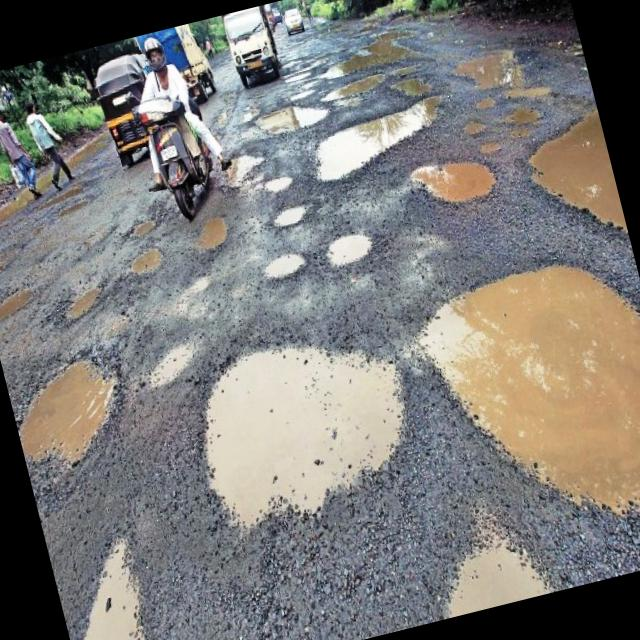Potholes: (413, 232, 640, 560), (168, 294, 430, 524), (1, 332, 152, 483), (302, 88, 460, 200), (46, 520, 188, 640), (524, 103, 626, 245), (422, 508, 552, 619), (304, 21, 424, 88), (408, 144, 500, 218), (202, 143, 295, 213), (448, 36, 526, 104), (245, 98, 327, 148), (144, 336, 211, 394), (320, 219, 381, 278), (316, 64, 387, 114), (180, 208, 238, 258), (34, 178, 99, 214), (52, 190, 108, 230), (122, 241, 172, 285), (257, 245, 309, 286), (60, 284, 109, 320), (0, 289, 48, 321), (266, 200, 315, 230), (390, 70, 437, 100), (0, 243, 30, 288), (123, 212, 163, 242), (474, 135, 508, 165), (504, 106, 546, 130), (459, 111, 488, 138)
